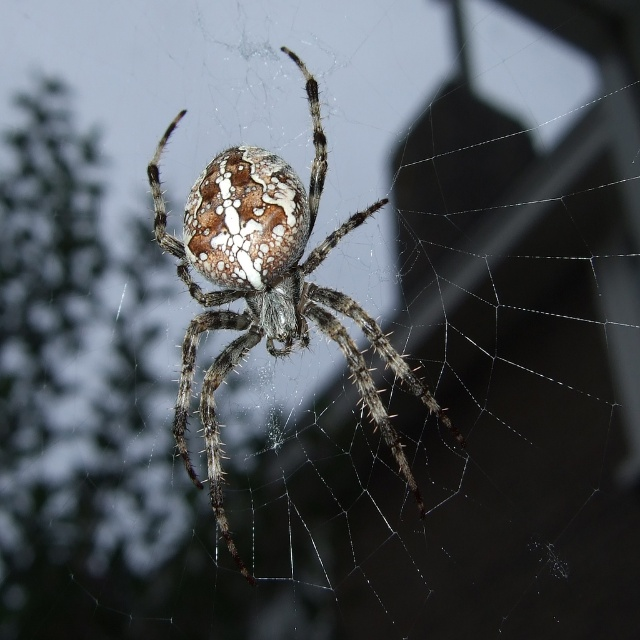Spider: (143, 46, 466, 589)
